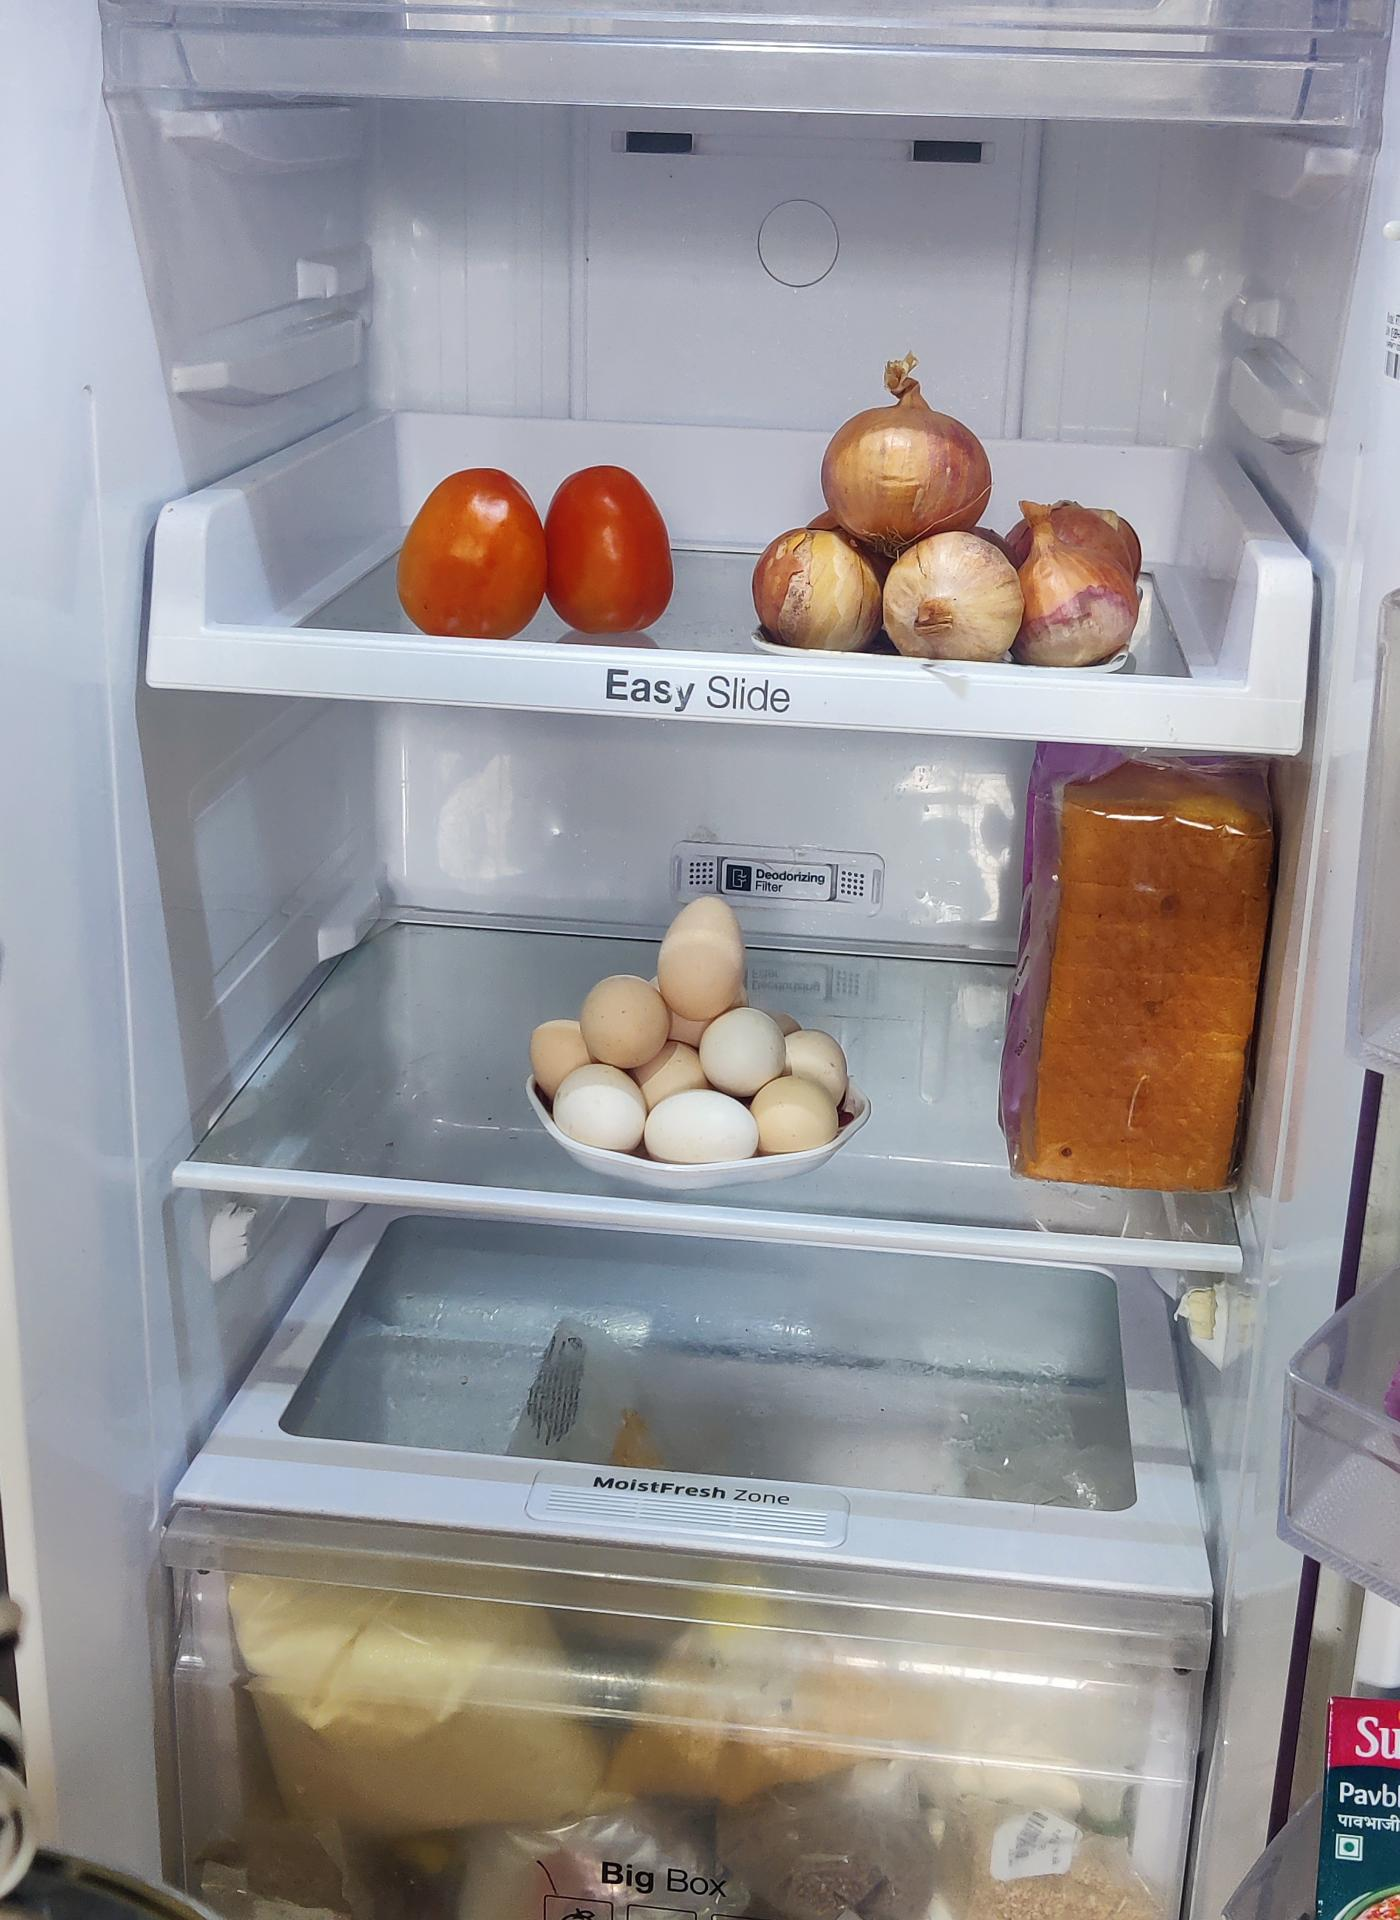bread: (991, 753, 1288, 1203), (1, 1446, 66, 1895)
egg: (531, 890, 863, 1161)
onion: (747, 405, 1147, 677)
tomato: (392, 467, 674, 647)
